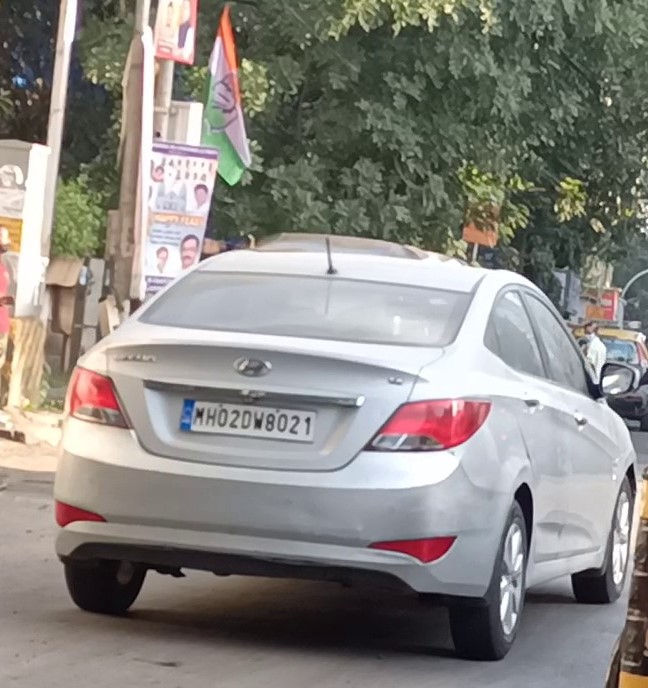MH02DW8021: (180, 397, 318, 443)
